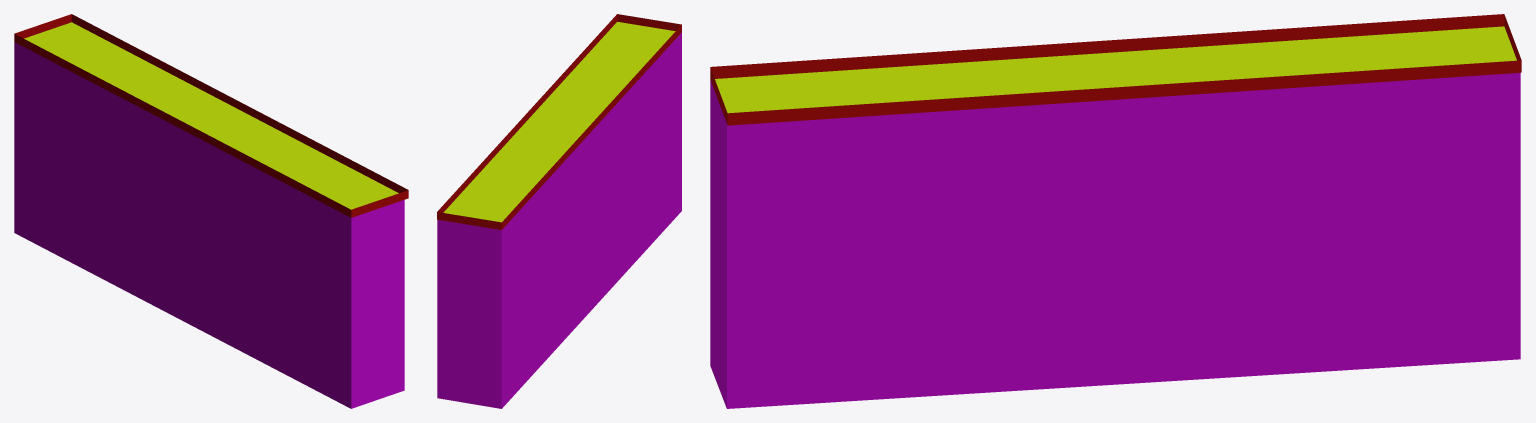
File: niv_32.glb
3 renders of one model, left to right at view 1: azimuth 30°, elevation 25°; view 2: azimuth 150°, elevation 25°; view 3: azimuth 270°, elevation 25°, orthographic. The views are drawn at different scales.
Visible parts, largest first — view 1: niv_32; view 2: niv_32; view 3: niv_32.
Part boxes in pixels (x1=…): niv_32: x1=14, y1=14, x2=408, y2=408; niv_32: x1=437, y1=14, x2=681, y2=408; niv_32: x1=710, y1=14, x2=1521, y2=408.
Size of the model in its own units: 6.01 by 8.44 by 20.76.
